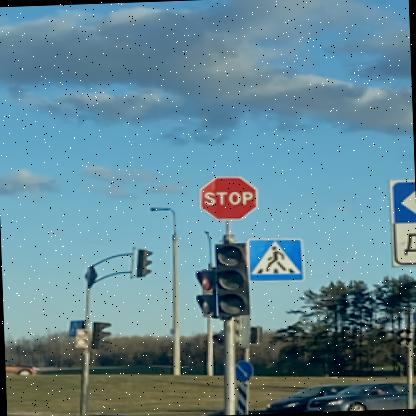crosswalk: (246, 238, 300, 282), (411, 305, 415, 329)
stop: (197, 176, 256, 220)
trafficlight: (210, 240, 249, 316), (192, 266, 214, 314), (92, 318, 112, 349), (130, 245, 149, 274), (72, 328, 86, 347)
